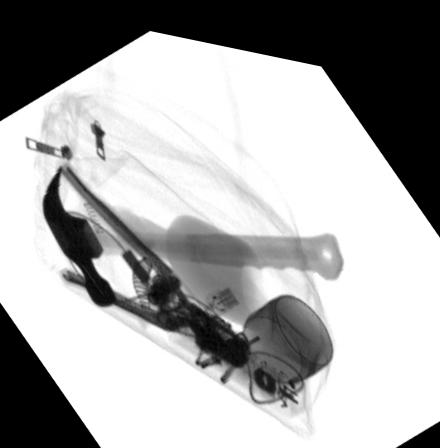Hammer: (41, 161, 345, 302)
Pliers: (57, 157, 250, 357)
